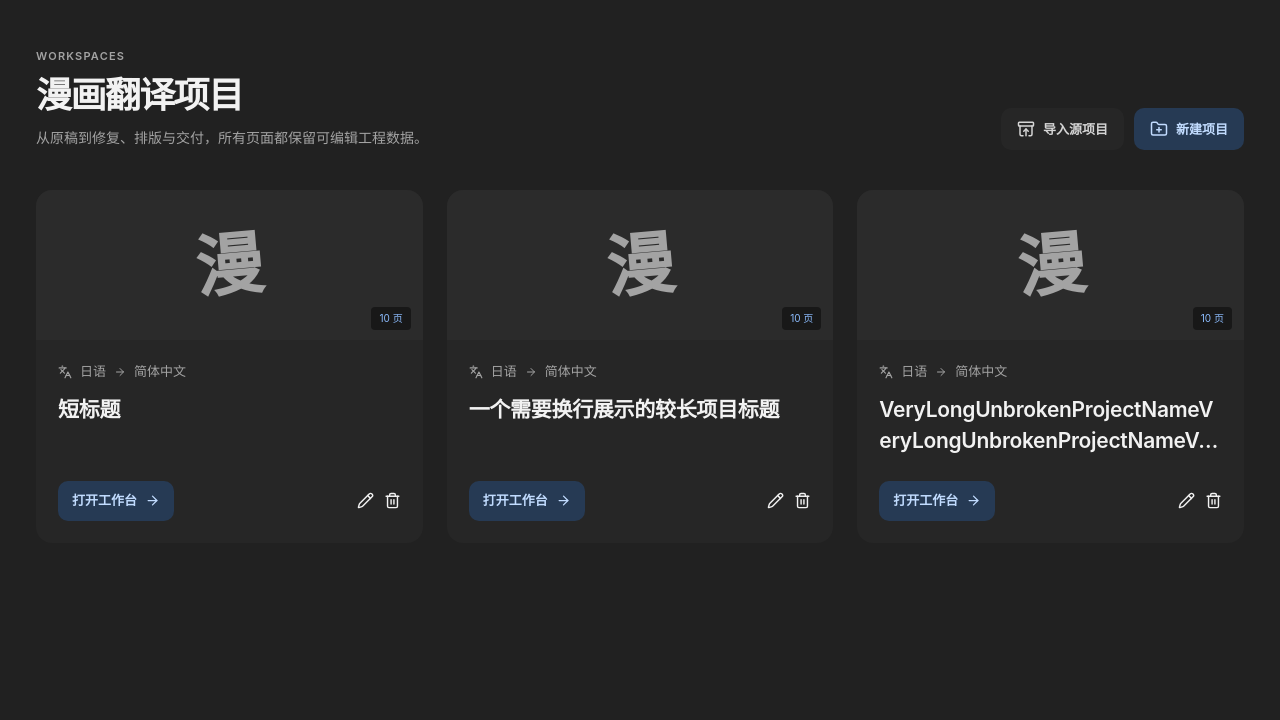
Test: project details › shows deletion failures through the global toast without adding a page error box
Step 1. Click the button named "删除项目 短标题" → (392, 500), box [384,480,401,520]
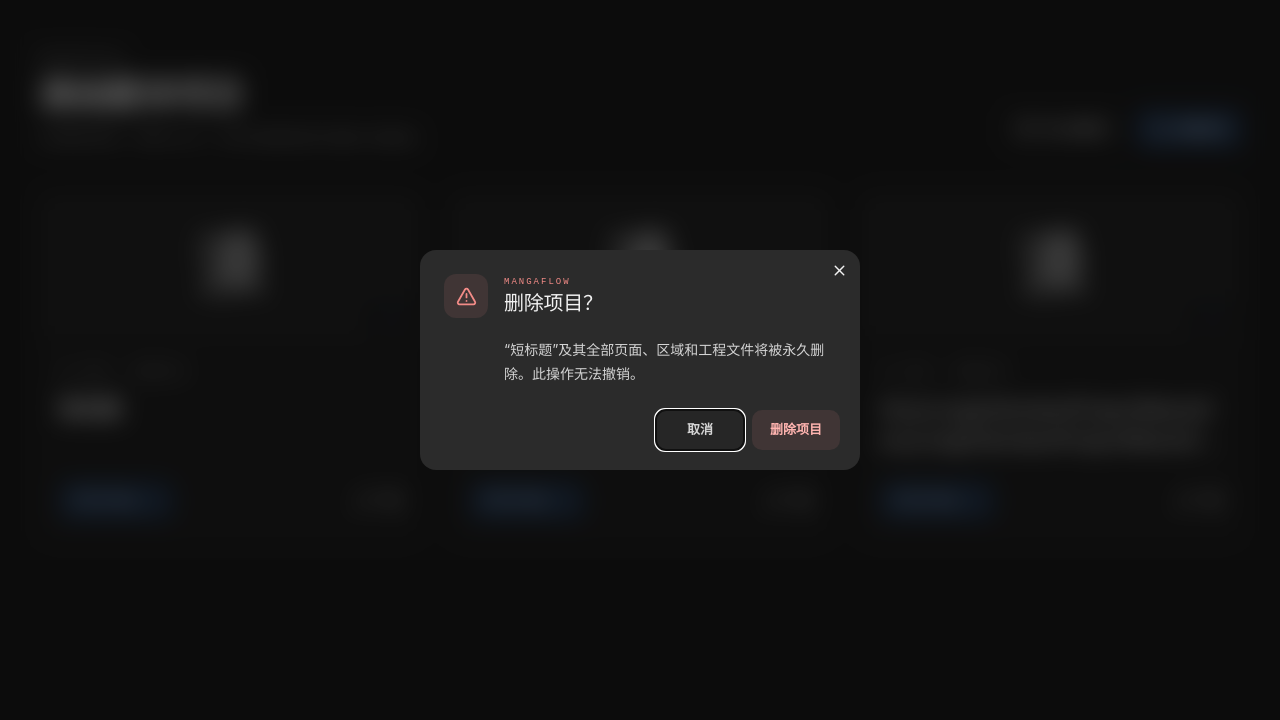
Step 2. Click the button "删除项目" → (796, 430), box [752,410,840,450]
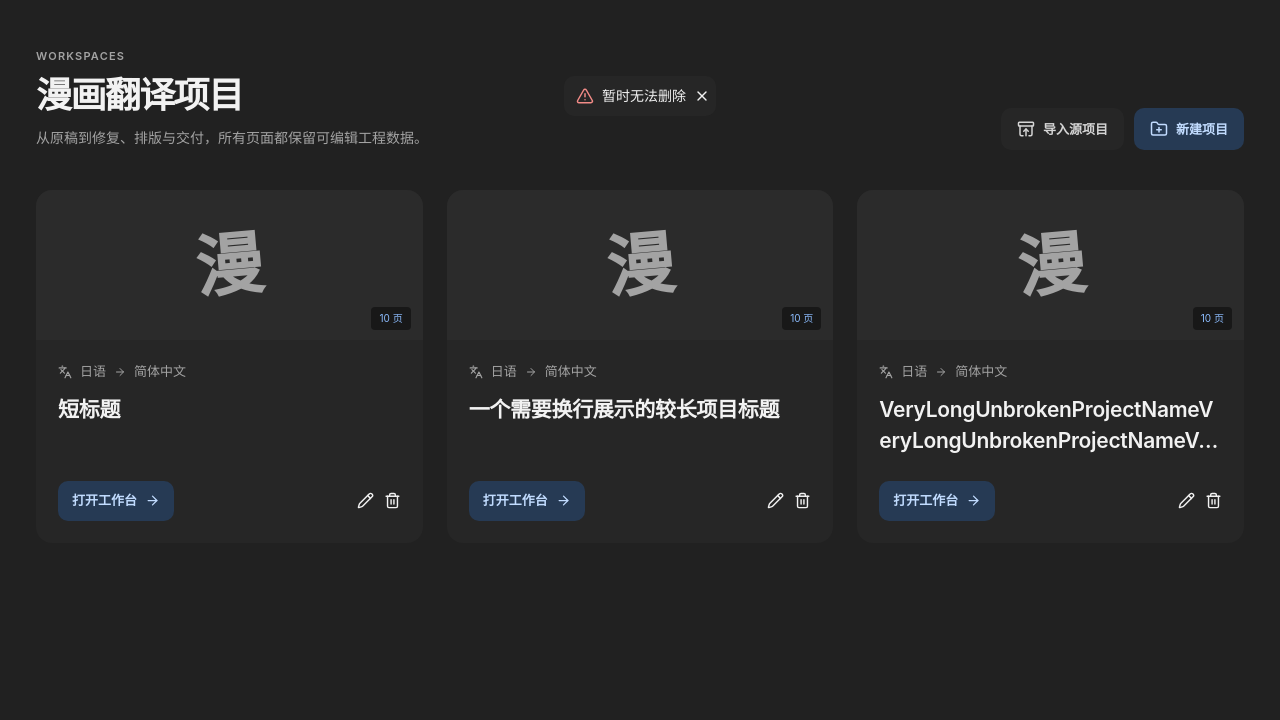
Expected: the element showing "漫 10 页 日语 简体中文 短标题 打开工作台" is shown, [36,190,423,542]
Expected: the message named "删除项目" reads "暂时无法删除", [602,87,686,104]
Expected: the number of messages is 1, [564,76,716,116]
